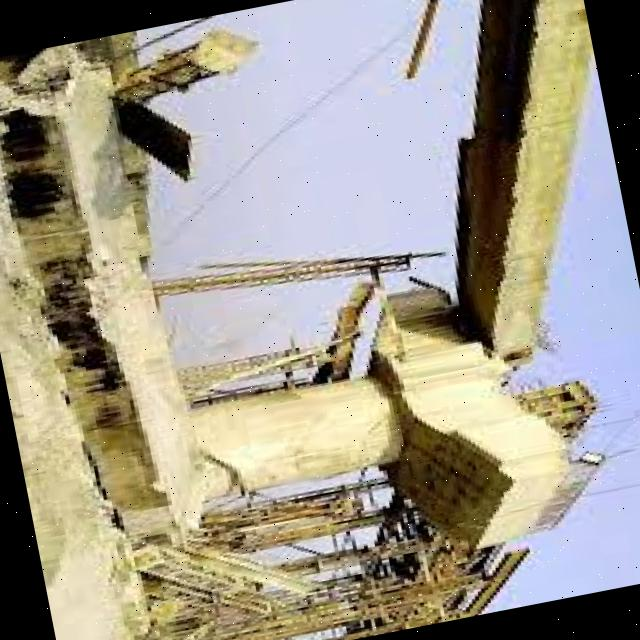bridge collapse: (268, 211, 640, 640)
